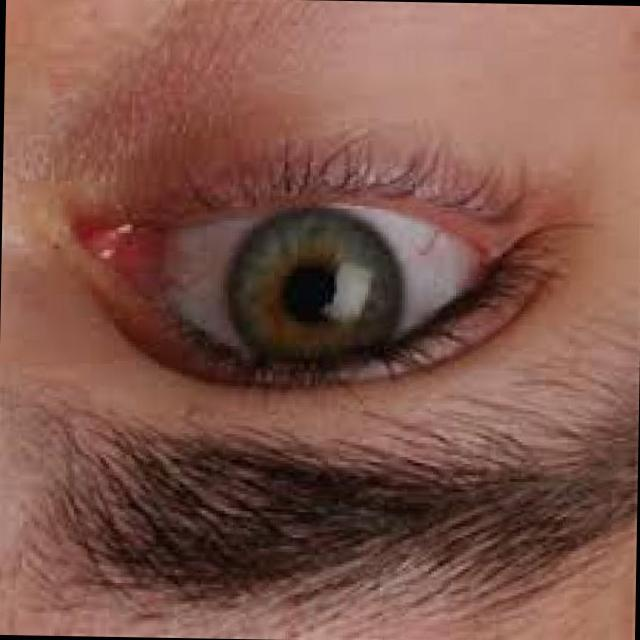Normal: (98, 116, 588, 414)
